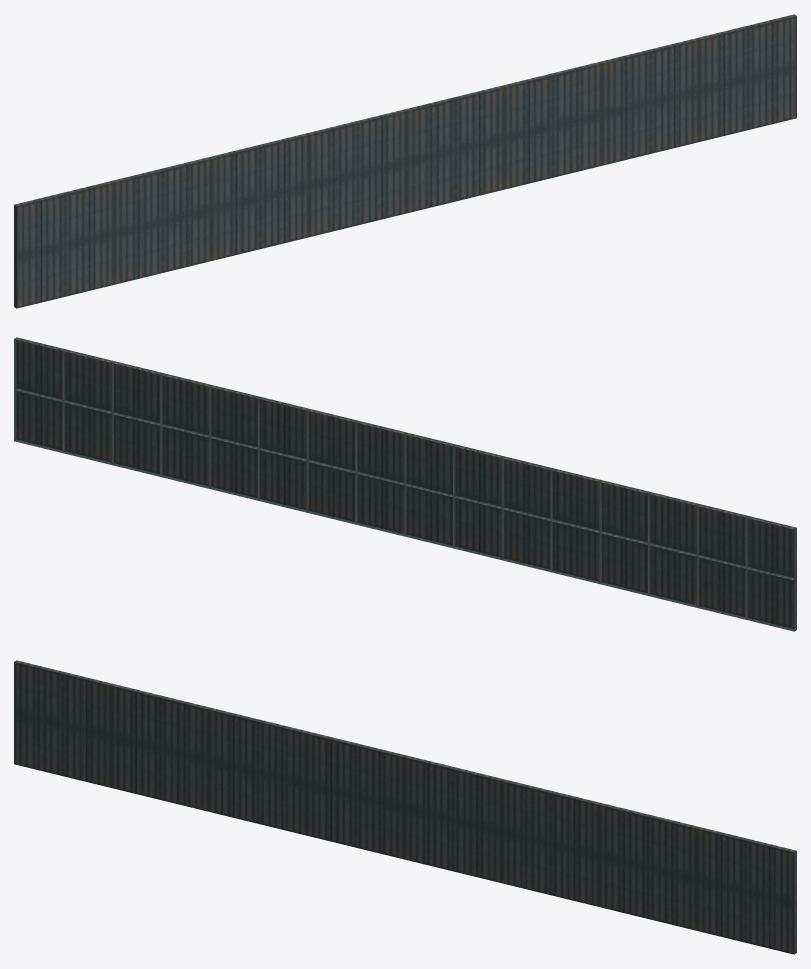
Rendered from parede.fbx.
The picture shows the model from 3 angles, top to bottom: view 1: azimuth 30°, elevation 25°; view 2: azimuth 150°, elevation 25°; view 3: azimuth 330°, elevation 25°; orthographic projection.
Visible parts, largest first — view 1: Cube; view 2: Cube; view 3: Cube.
Part boxes in pixels (box(x1,y1,x2,y2)): Cube: box(14, 14, 796, 308); Cube: box(14, 337, 796, 631); Cube: box(14, 660, 796, 954).
Size of the model in its own units: 3200 by 400 by 18.34.
1 material, 1 textured.
